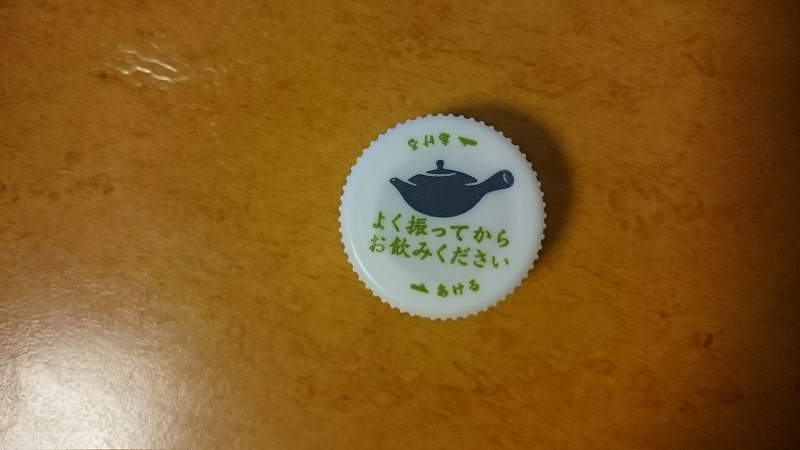A: (332, 110, 560, 323)
